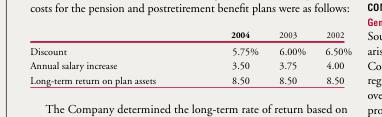table: (29, 29, 351, 85)
table column: (29, 29, 192, 85), (192, 29, 268, 85), (268, 29, 314, 85), (314, 29, 351, 85)
table column header: (29, 29, 351, 42)
table row: (29, 42, 351, 57), (29, 57, 351, 72), (29, 29, 351, 42), (29, 72, 351, 85)
